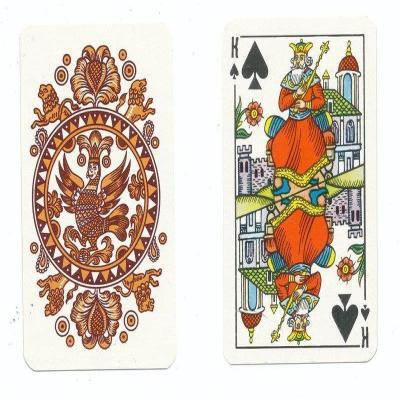graphics: (218, 14, 382, 366), (20, 21, 178, 372)
